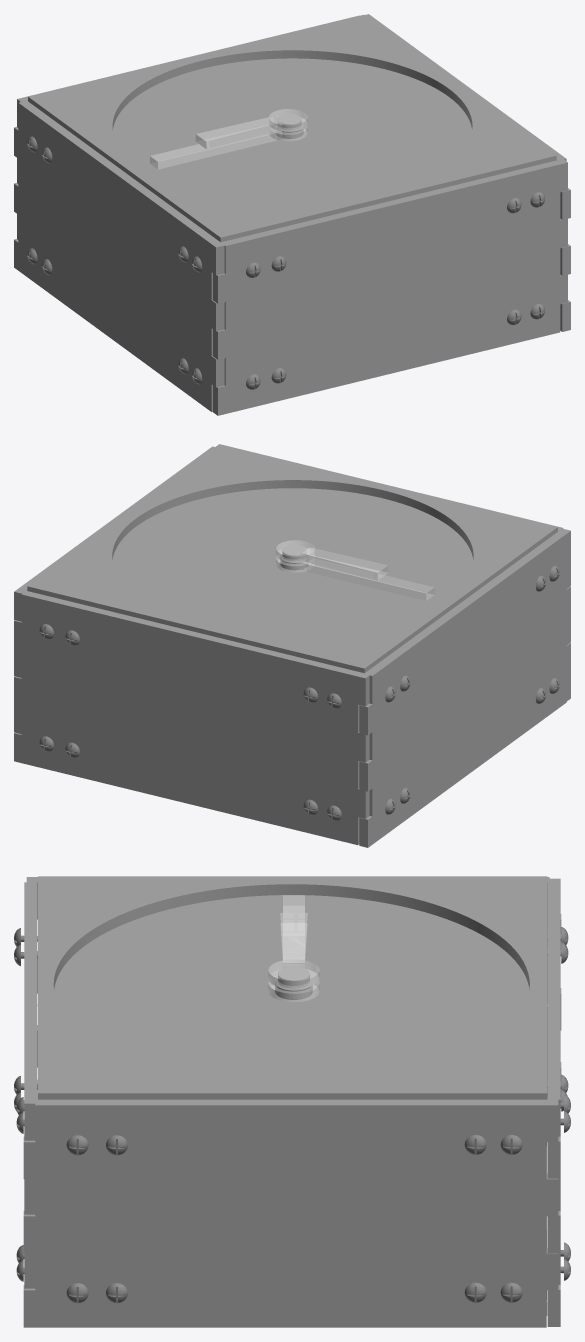
The model's file is CLOCKWORK.fbx.
3 renders of one model, top to bottom at view 1: azimuth 30°, elevation 25°; view 2: azimuth 150°, elevation 25°; view 3: azimuth 270°, elevation 25°, orthographic. The views are drawn at different scales.
Visible parts, largest first — view 1: pCube42, pCylinder18, pCylinder17; view 2: pCube42, pCylinder18, pCylinder17; view 3: pCube42, pCylinder17, pCylinder18.
Boxes of the visible parts, left/top/right/bottom form: pCube42: left=14, top=14, right=570, bottom=415; pCylinder18: left=150, top=122, right=307, bottom=169; pCylinder17: left=195, top=109, right=307, bottom=149; pCube42: left=14, top=444, right=570, bottom=847; pCylinder18: left=276, top=553, right=434, bottom=600; pCylinder17: left=276, top=540, right=388, bottom=580; pCube42: left=14, top=876, right=570, bottom=1327; pCylinder17: left=268, top=913, right=319, bottom=989; pCylinder18: left=268, top=895, right=319, bottom=1002.
Size of the model in its own units: 2.27 by 1.09 by 2.27.
